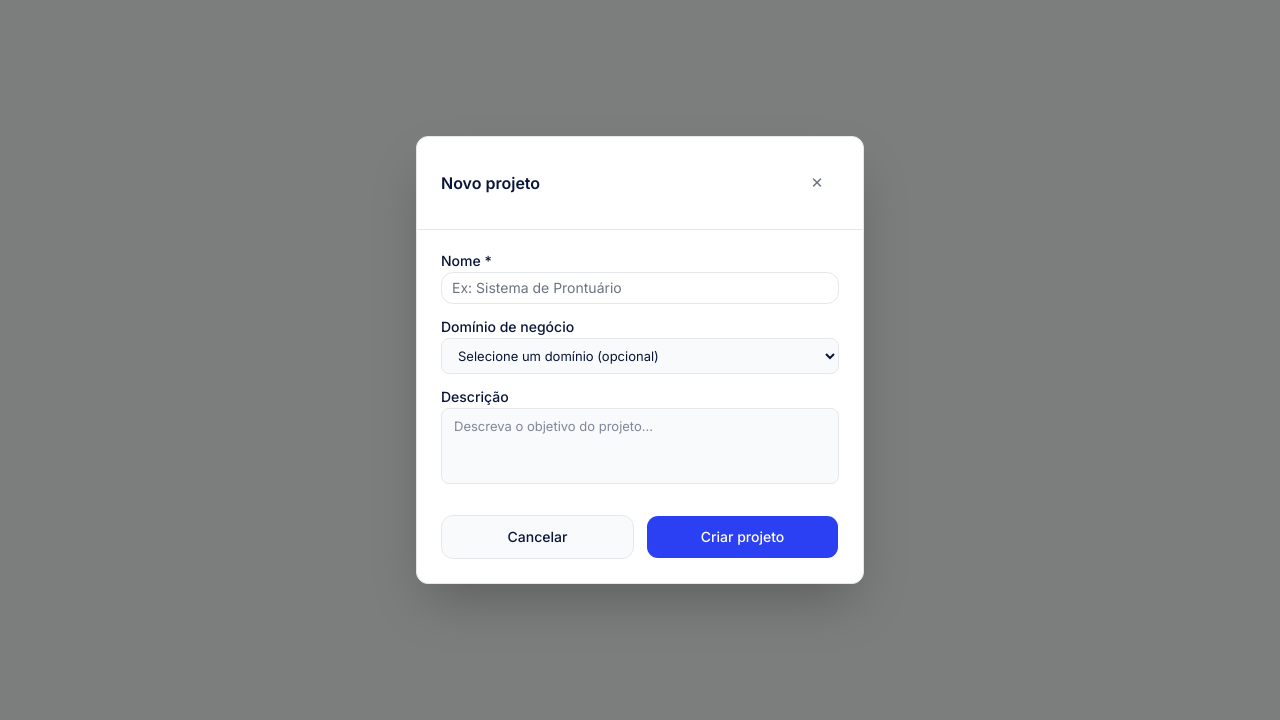
Test: ProjectModal — modo criação › exibe mensagem de sucesso após criar
The image size is (1280, 720).
Type "Teste" into the field labelled "Nome *" at point(640, 288), box [441,272,839,304]
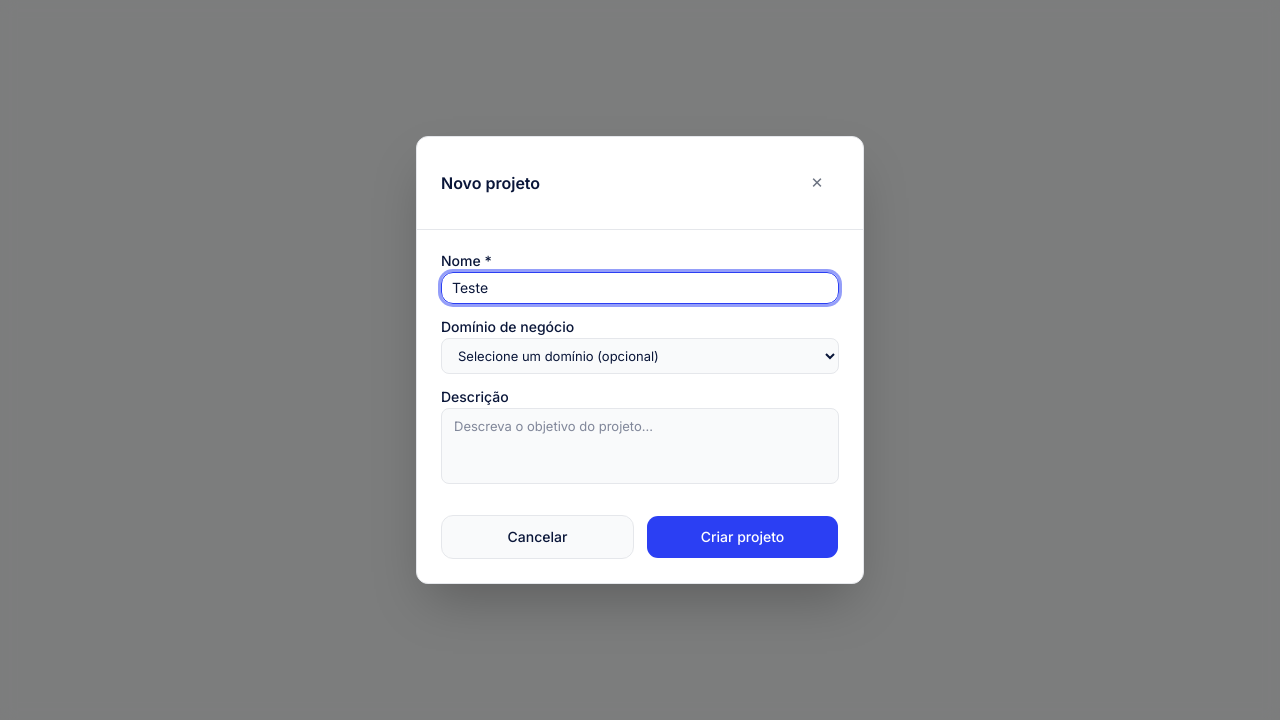
Click the button "Criar projeto" at point(742, 537), box [646,515,839,559]
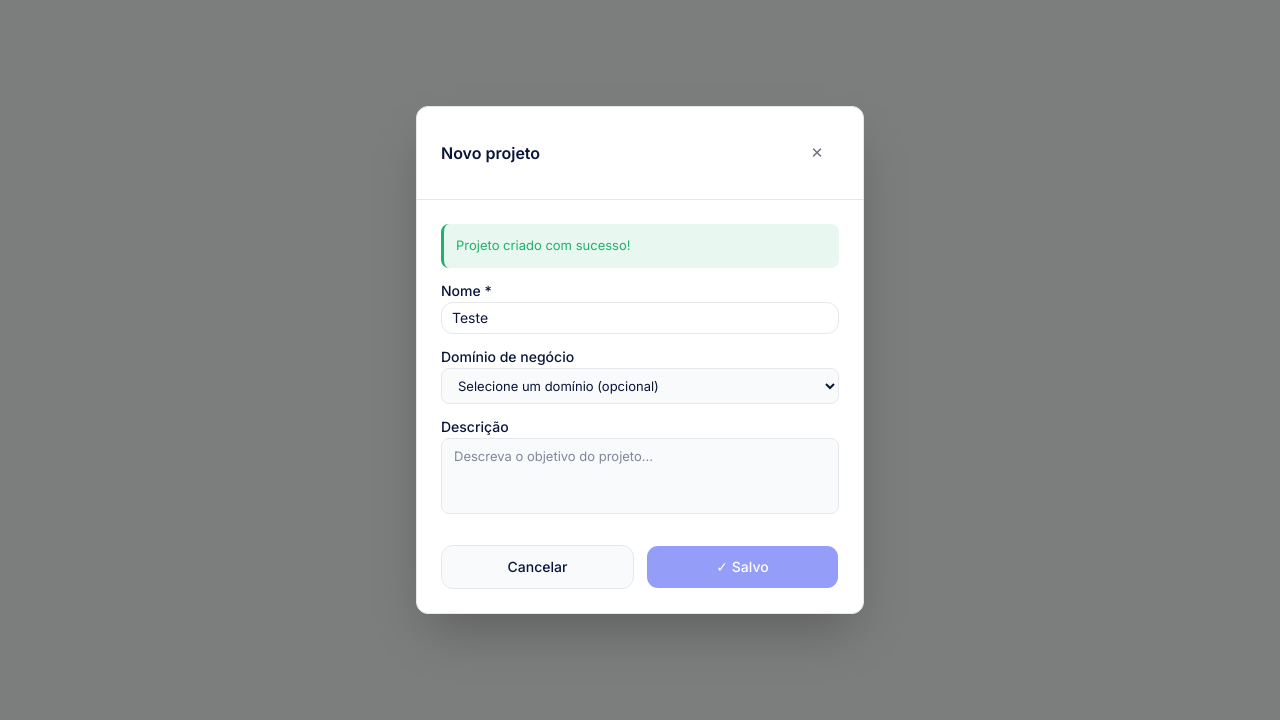
Expected: the text "Projeto criado com sucesso!" is shown, [441,224,839,268]
